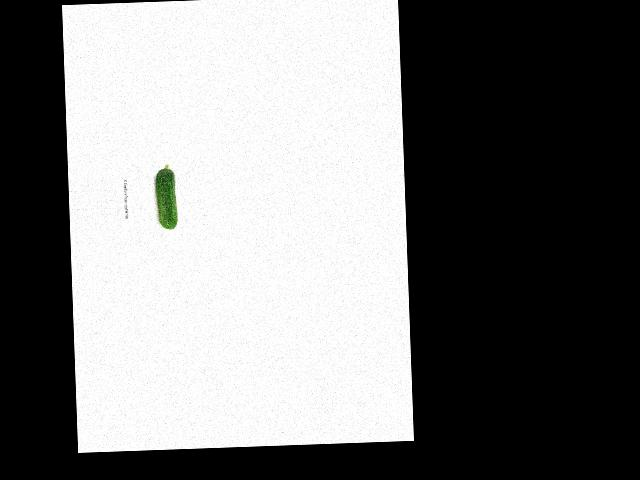cucumber: (155, 164, 177, 230)
